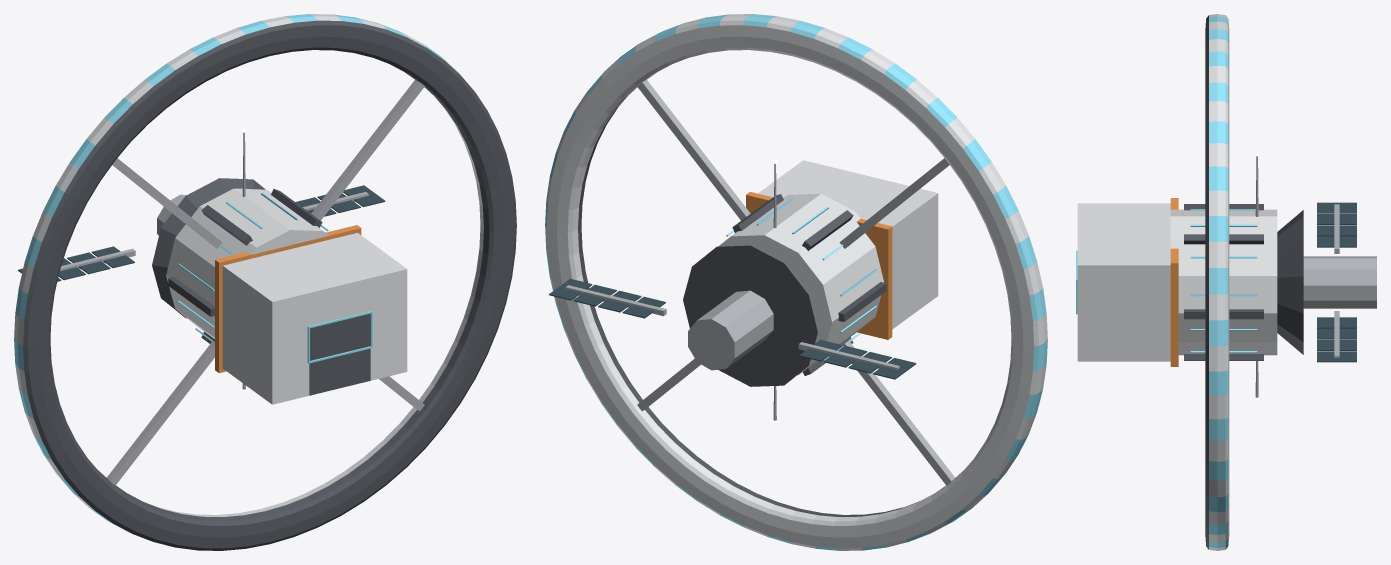
The model's file is station.fbx.
3 renders of one model, left to right at view 1: azimuth 30°, elevation 25°; view 2: azimuth 150°, elevation 25°; view 3: azimuth 270°, elevation 25°, orthographic. The views are drawn at different scales.
Parts seen in each view (by area): view 1: Ring, Core; view 2: Ring, Core; view 3: Core, Ring.
Boxes of the visible parts, x1,y1,x2,y2 form: Ring: (14, 14, 516, 550); Core: (18, 128, 407, 404); Ring: (545, 14, 1047, 550); Core: (549, 160, 938, 423); Core: (1076, 153, 1376, 399); Ring: (1205, 14, 1229, 550).
Bounding box in the file's own units: 404 × 404 × 226.
